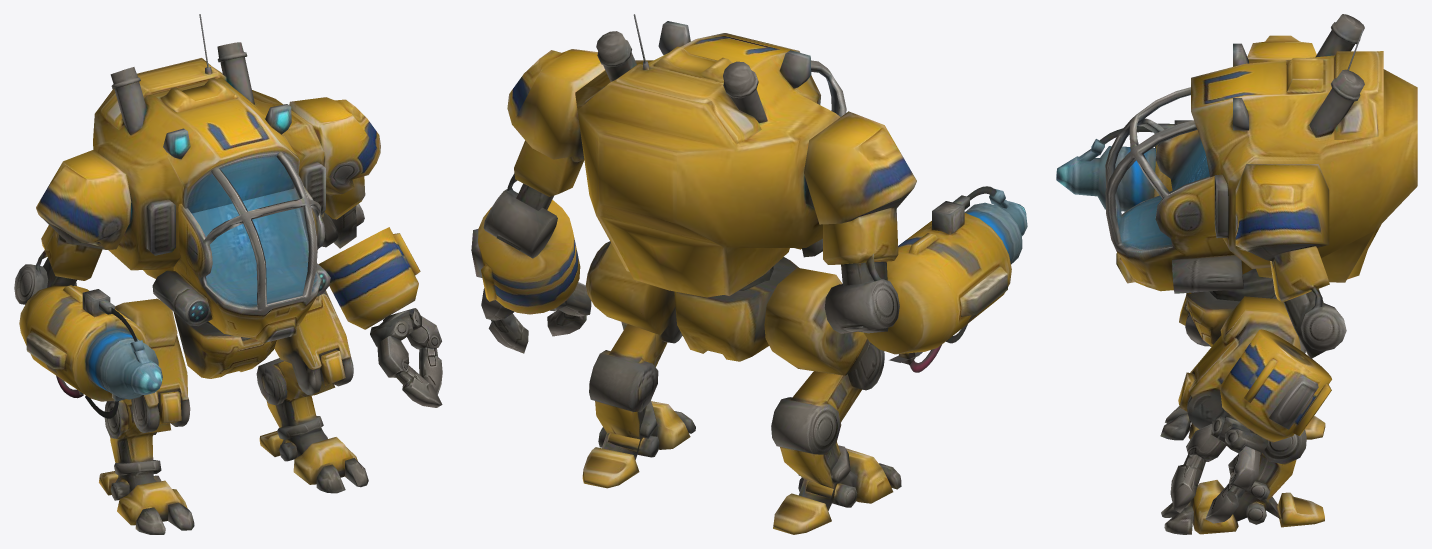
The model's file is scv.glb.
The picture shows the model from 3 angles, left to right: view 1: azimuth 30°, elevation 25°; view 2: azimuth 150°, elevation 25°; view 3: azimuth 270°, elevation 25°; orthographic projection. The views are drawn at different scales.
Visible parts, largest first — view 1: tripo_node_7fca1715-02c7-44d9-9612-be2effa59058; view 2: tripo_node_7fca1715-02c7-44d9-9612-be2effa59058; view 3: tripo_node_7fca1715-02c7-44d9-9612-be2effa59058.
Part boxes in pixels (bbox=[...]): tripo_node_7fca1715-02c7-44d9-9612-be2effa59058: bbox=[14, 14, 442, 534]; tripo_node_7fca1715-02c7-44d9-9612-be2effa59058: bbox=[471, 14, 1027, 534]; tripo_node_7fca1715-02c7-44d9-9612-be2effa59058: bbox=[1056, 14, 1417, 534].
Size of the model in its own units: 2.04 by 2 by 1.42.
1 material, 1 textured.
